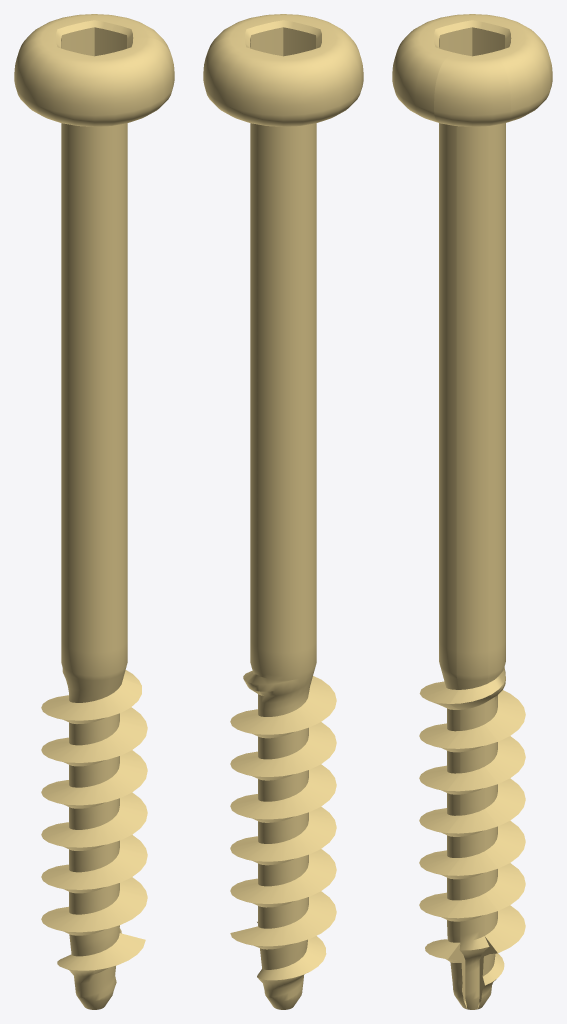
The model's file is os39_cancellous_partial_4x40_lod1.glb.
3 renders of one model, left to right at view 1: azimuth 30°, elevation 25°; view 2: azimuth 150°, elevation 25°; view 3: azimuth 270°, elevation 25°, orthographic.
Visible parts, largest first — view 1: os39_cancellous_partial_4x40; view 2: os39_cancellous_partial_4x40; view 3: os39_cancellous_partial_4x40.
Part boxes in pixels (<box>): os39_cancellous_partial_4x40: <box>14,14,174,1009</box>; os39_cancellous_partial_4x40: <box>203,14,363,1009</box>; os39_cancellous_partial_4x40: <box>392,14,552,1009</box>.
Size of the model in its own units: 0.006 by 0.04 by 0.006.
